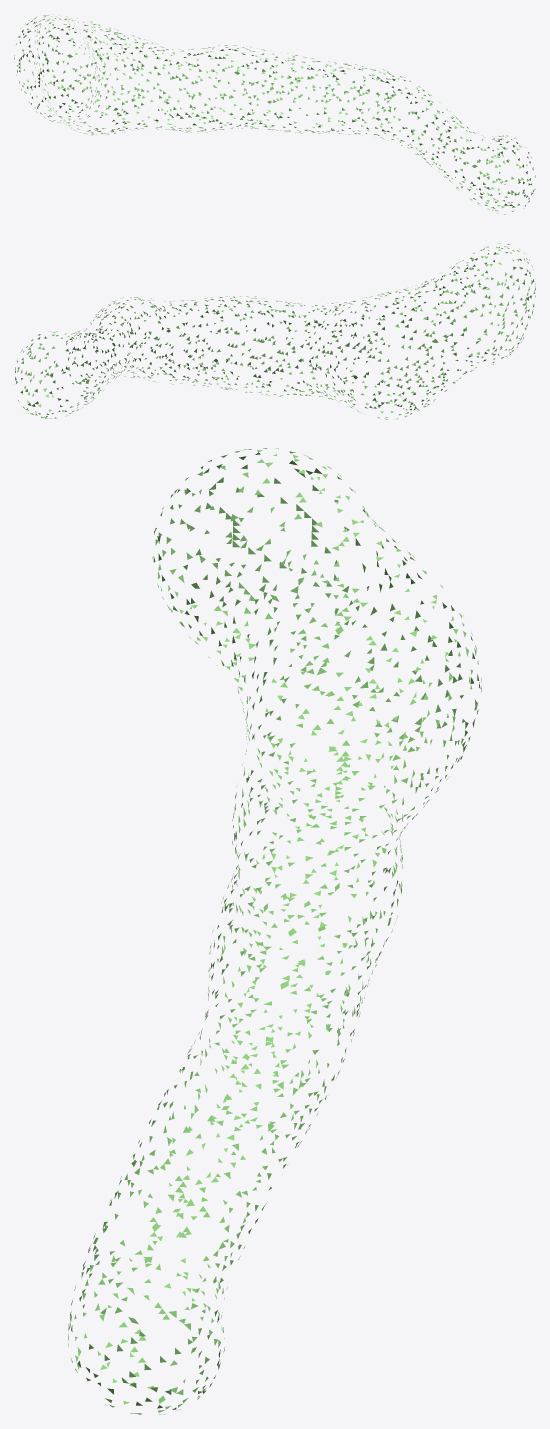
Rendered from morph_015.glb.
3 views of the same model, one above another, from view 1: azimuth 30°, elevation 25°; view 2: azimuth 150°, elevation 25°; view 3: azimuth 270°, elevation 25° (orthographic). The views are drawn at different scales.
Size of the model in its own units: 101 by 56.59 by 38.91.
